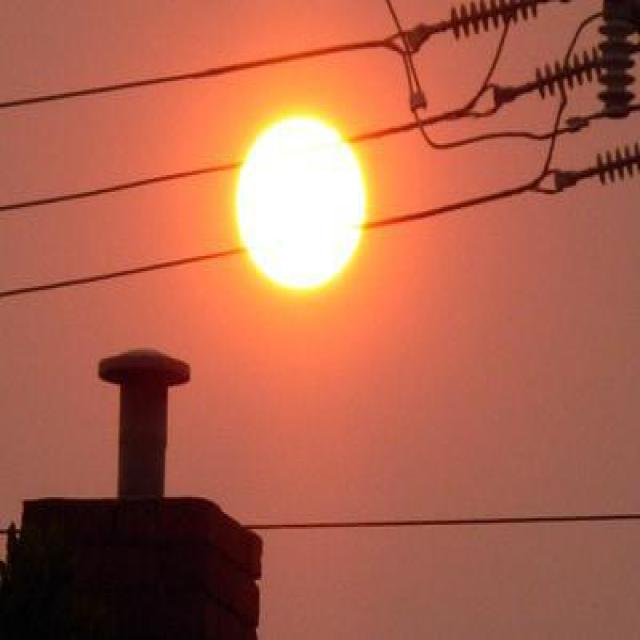other: (218, 94, 394, 324)
